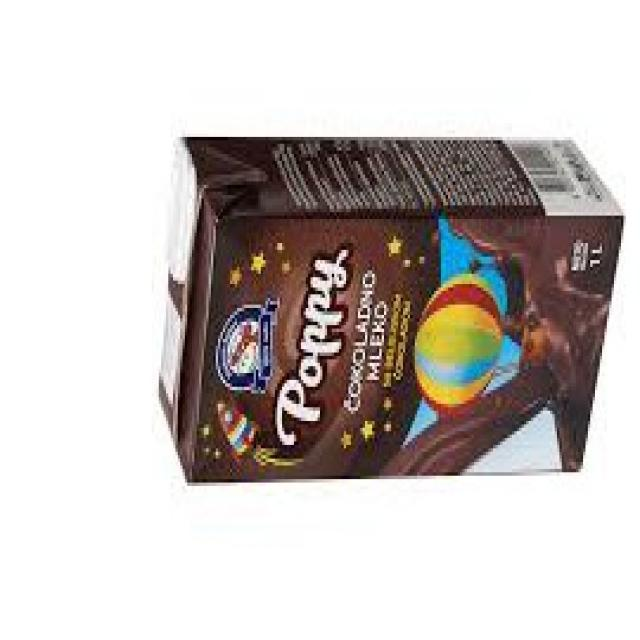non_white_jug: (158, 130, 629, 487)
